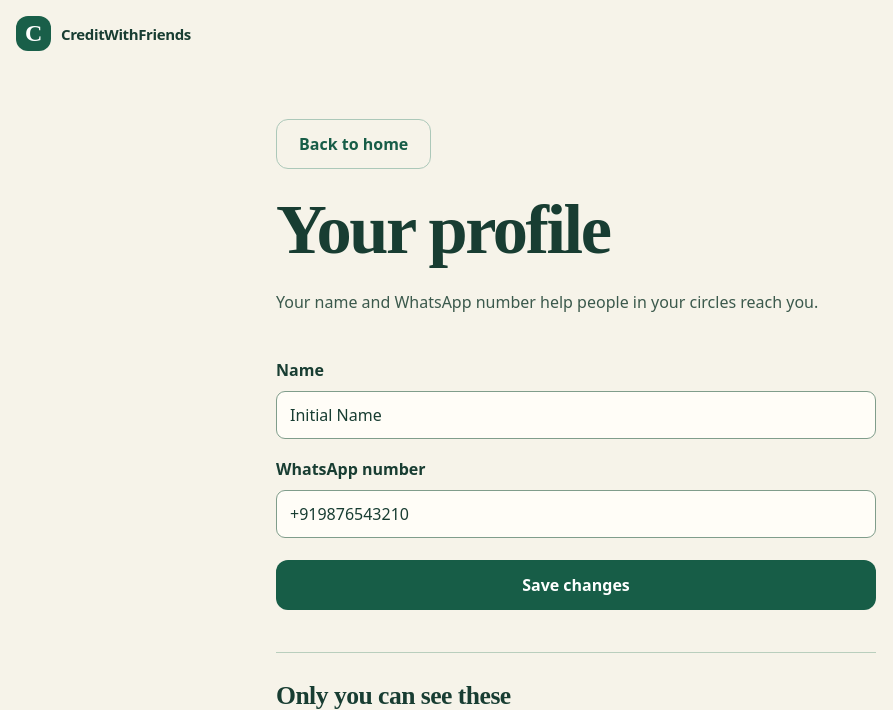
profile rejects invalid edits and keeps the saved values until a valid edit succeeds
The image size is (893, 710).
Clear the field labelled "Name". click: point(576, 415)
box: [276,391,876,439]
Click the button "Save changes". click: point(576, 585)
box: [276,560,876,610]
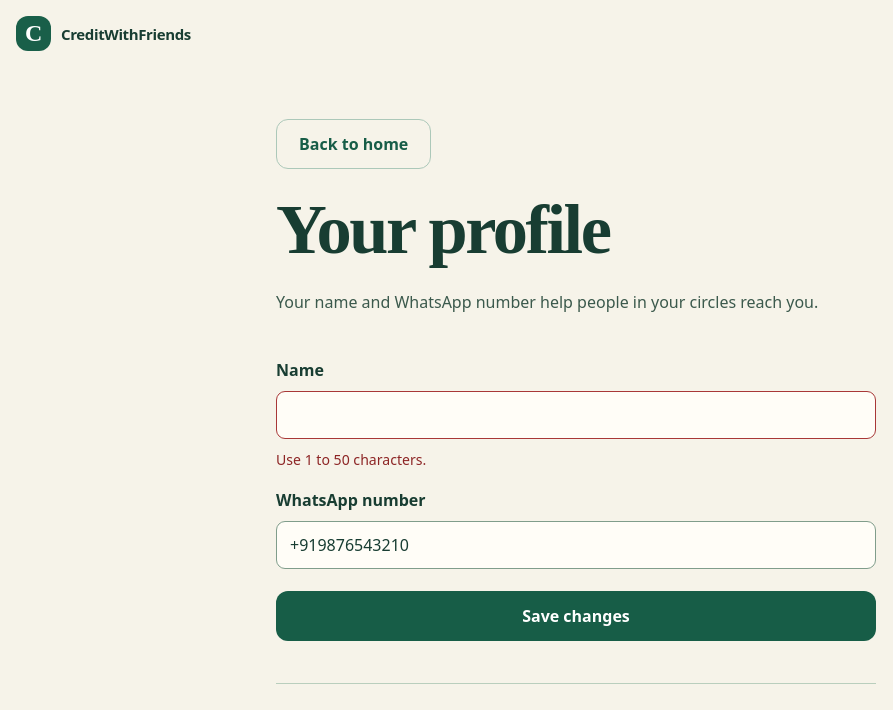
Now the text "Use 1 to 50 characters." is shown, box [276,450,426,469]
Type "New Name" into the field labelled "Name". click: point(576, 415)
box: [276,391,876,439]
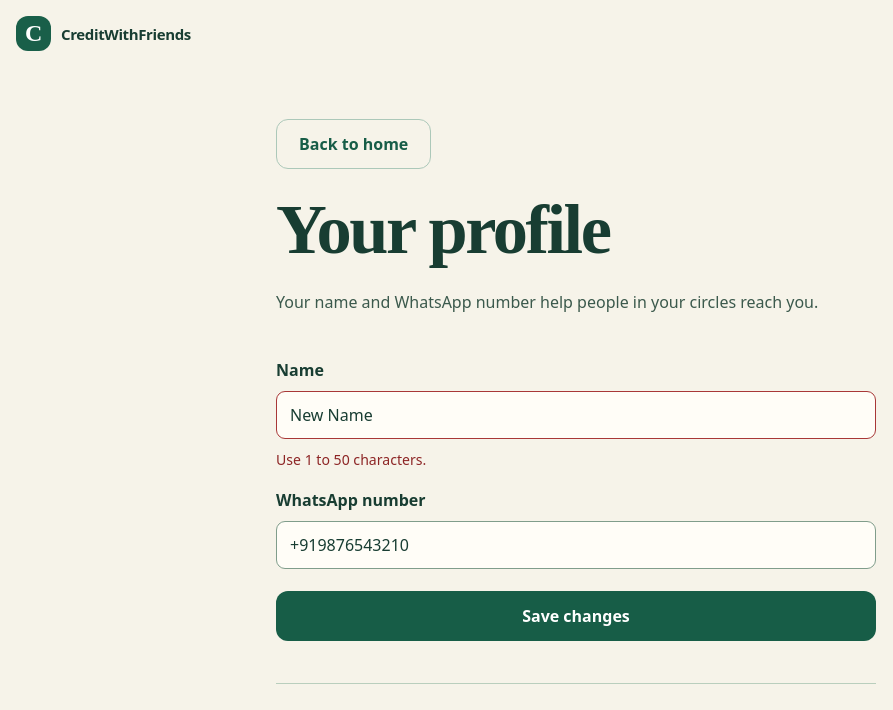
Replace the text in the field labelled "WhatsApp number" with "12". click: point(576, 545)
box: [276,521,876,569]
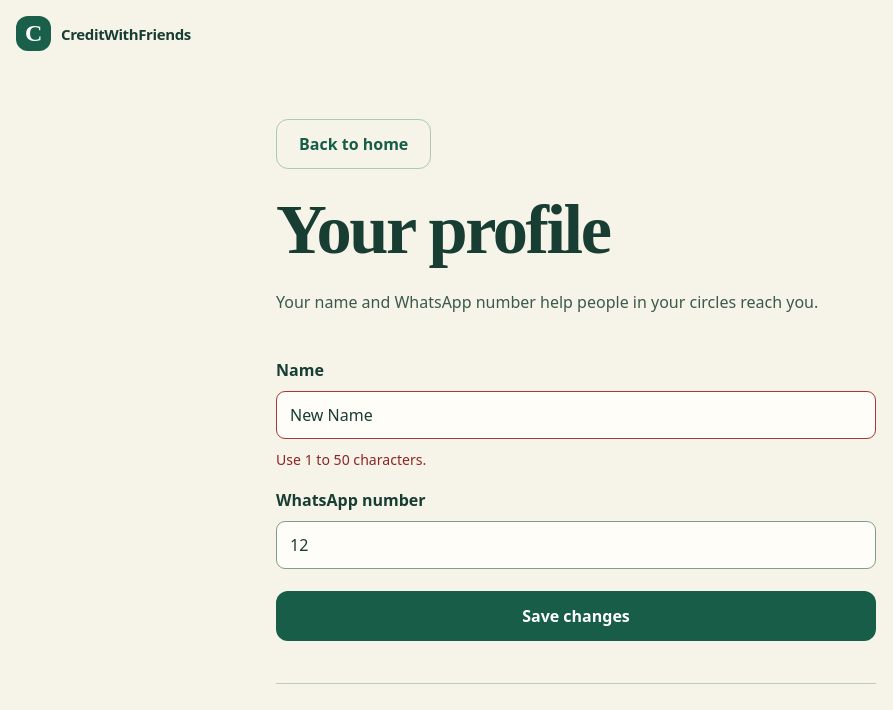
Click the button "Save changes". click: point(576, 616)
box: [276,591,876,641]
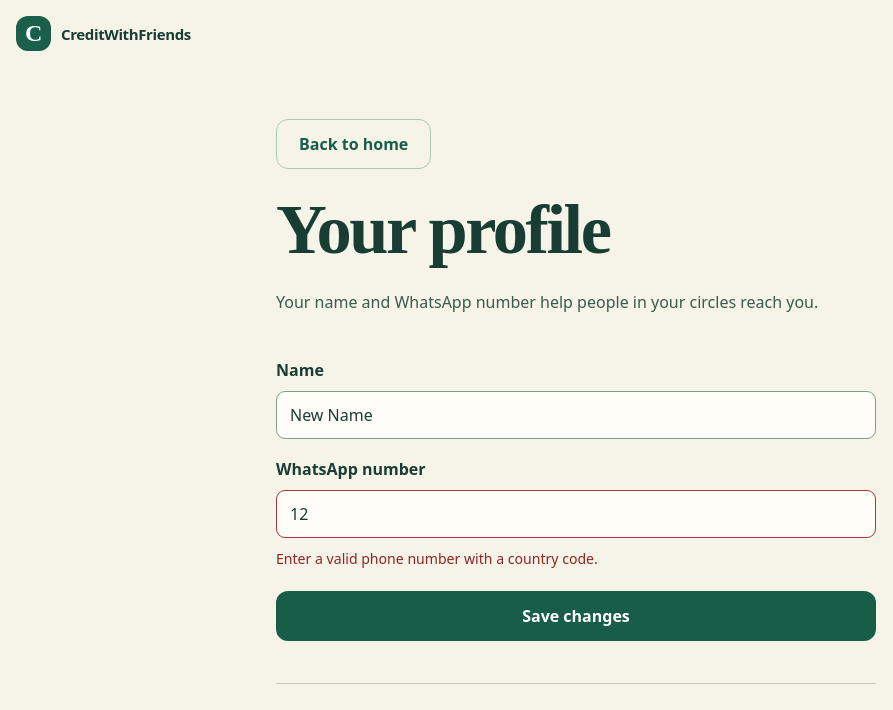
Now the text "Enter a valid phone number with a country code." is shown, box [276,549,598,568]
Replace the text in the field labelled "WhatsApp number" with "+447911123456". click: point(576, 514)
box: [276,490,876,538]
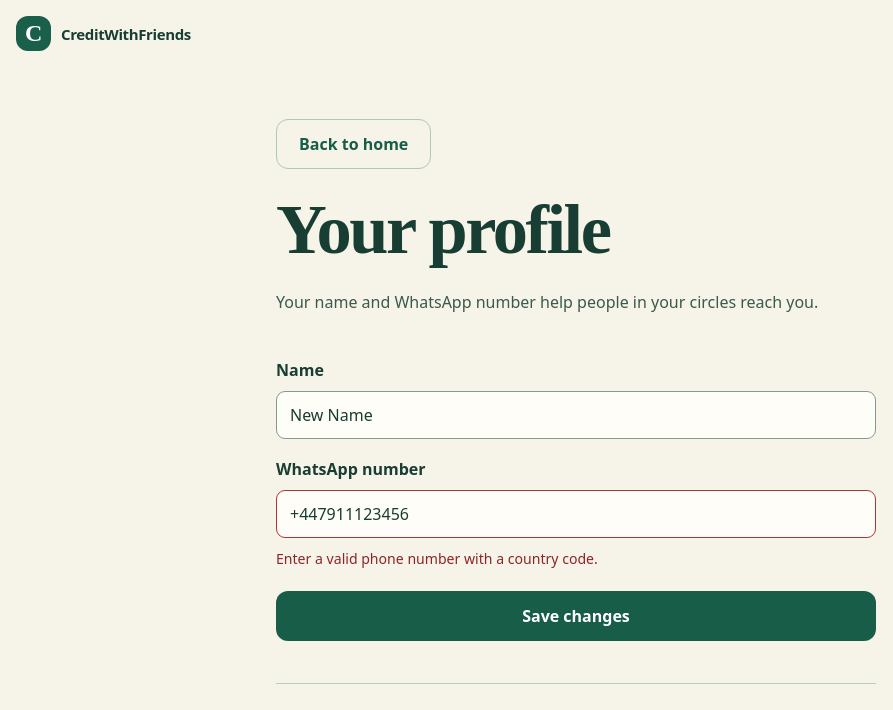
Click the button "Save changes". click: point(576, 616)
box: [276,591,876,641]
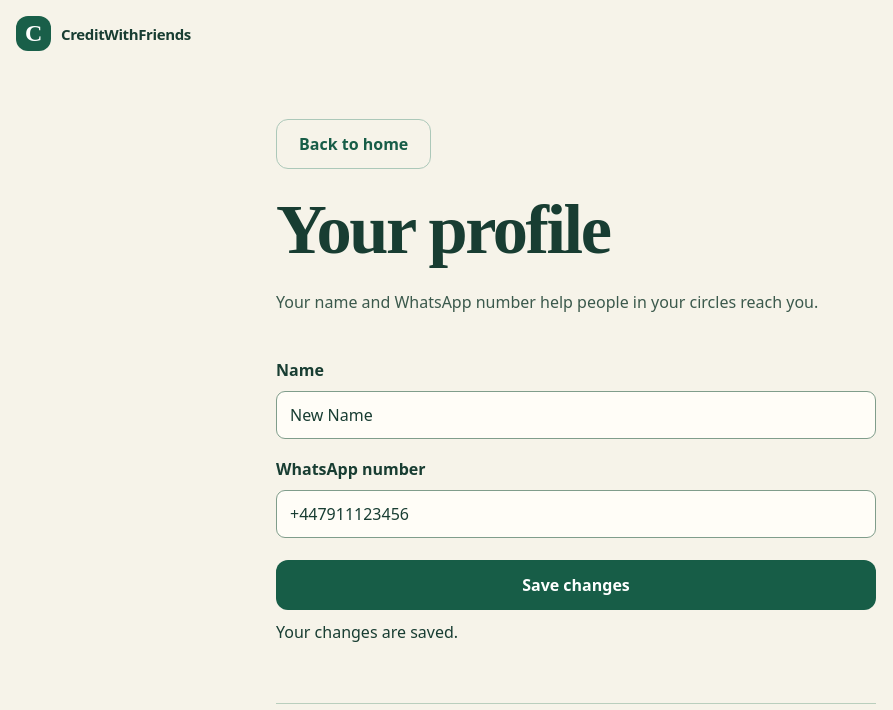
Now the text "Your changes are saved." is shown, box [276,621,458,643]
